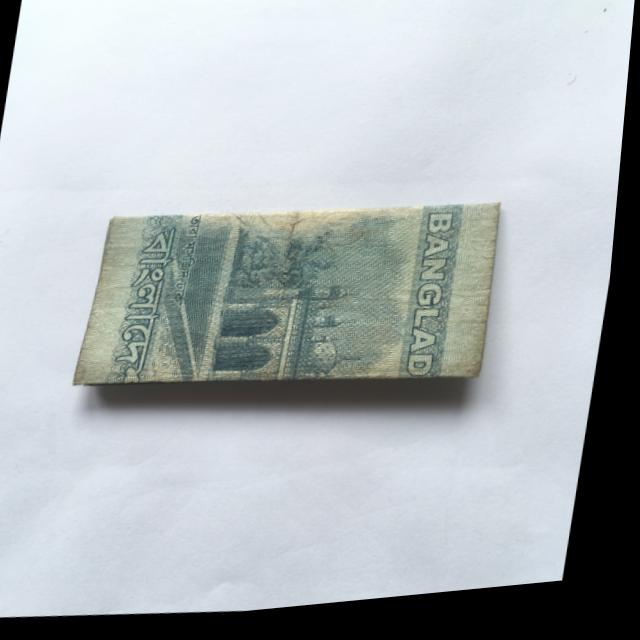Taka: (75, 170, 522, 425)
